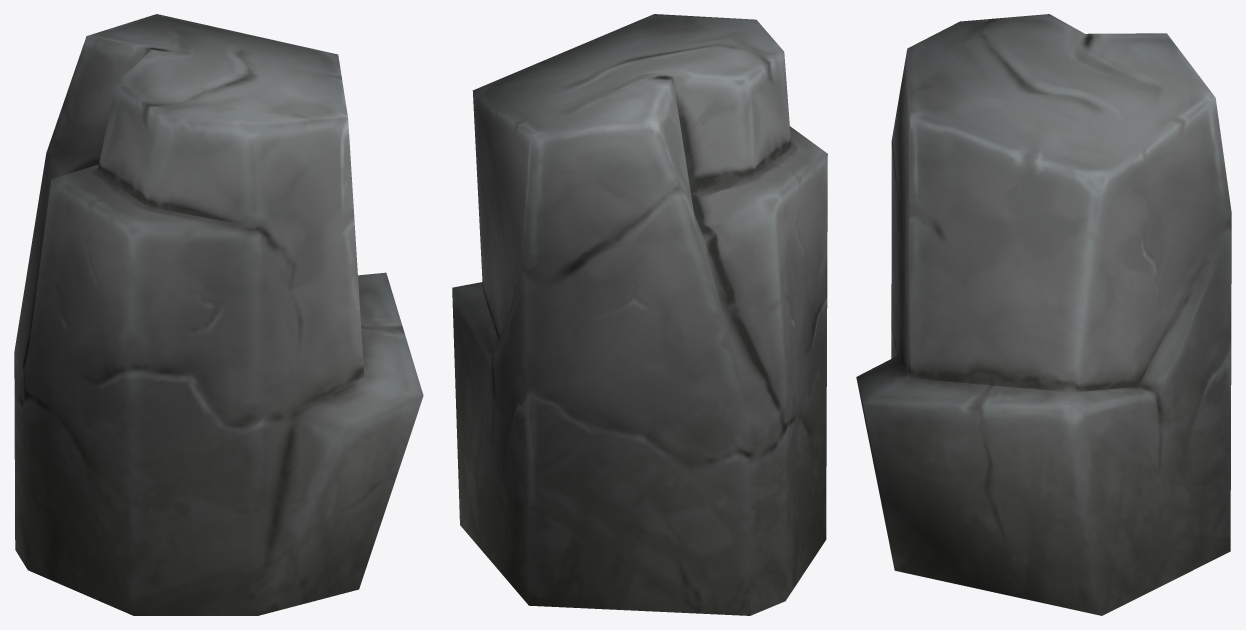
Rendered from Rock_formation1.fbx.
The picture shows the model from 3 angles, left to right: view 1: azimuth 30°, elevation 25°; view 2: azimuth 150°, elevation 25°; view 3: azimuth 270°, elevation 25°; orthographic projection. The views are drawn at different scales.
Parts seen in each view (by area): view 1: rock_lp_06; view 2: rock_lp_06; view 3: rock_lp_06.
Boxes of the visible parts, x1,y1,x2,y2 form: rock_lp_06: (14,14,423,615); rock_lp_06: (452,14,827,615); rock_lp_06: (856,14,1231,615).
Size of the model in its own units: 1.9 by 2.59 by 1.82.
